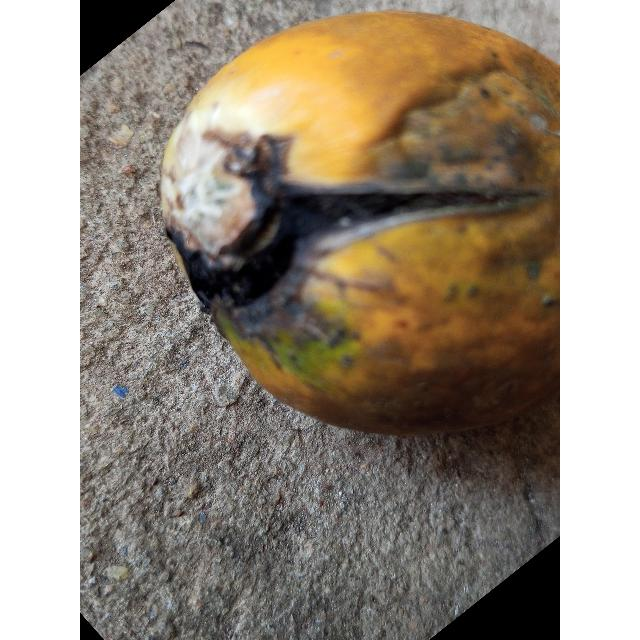damaged: (161, 12, 560, 434)
